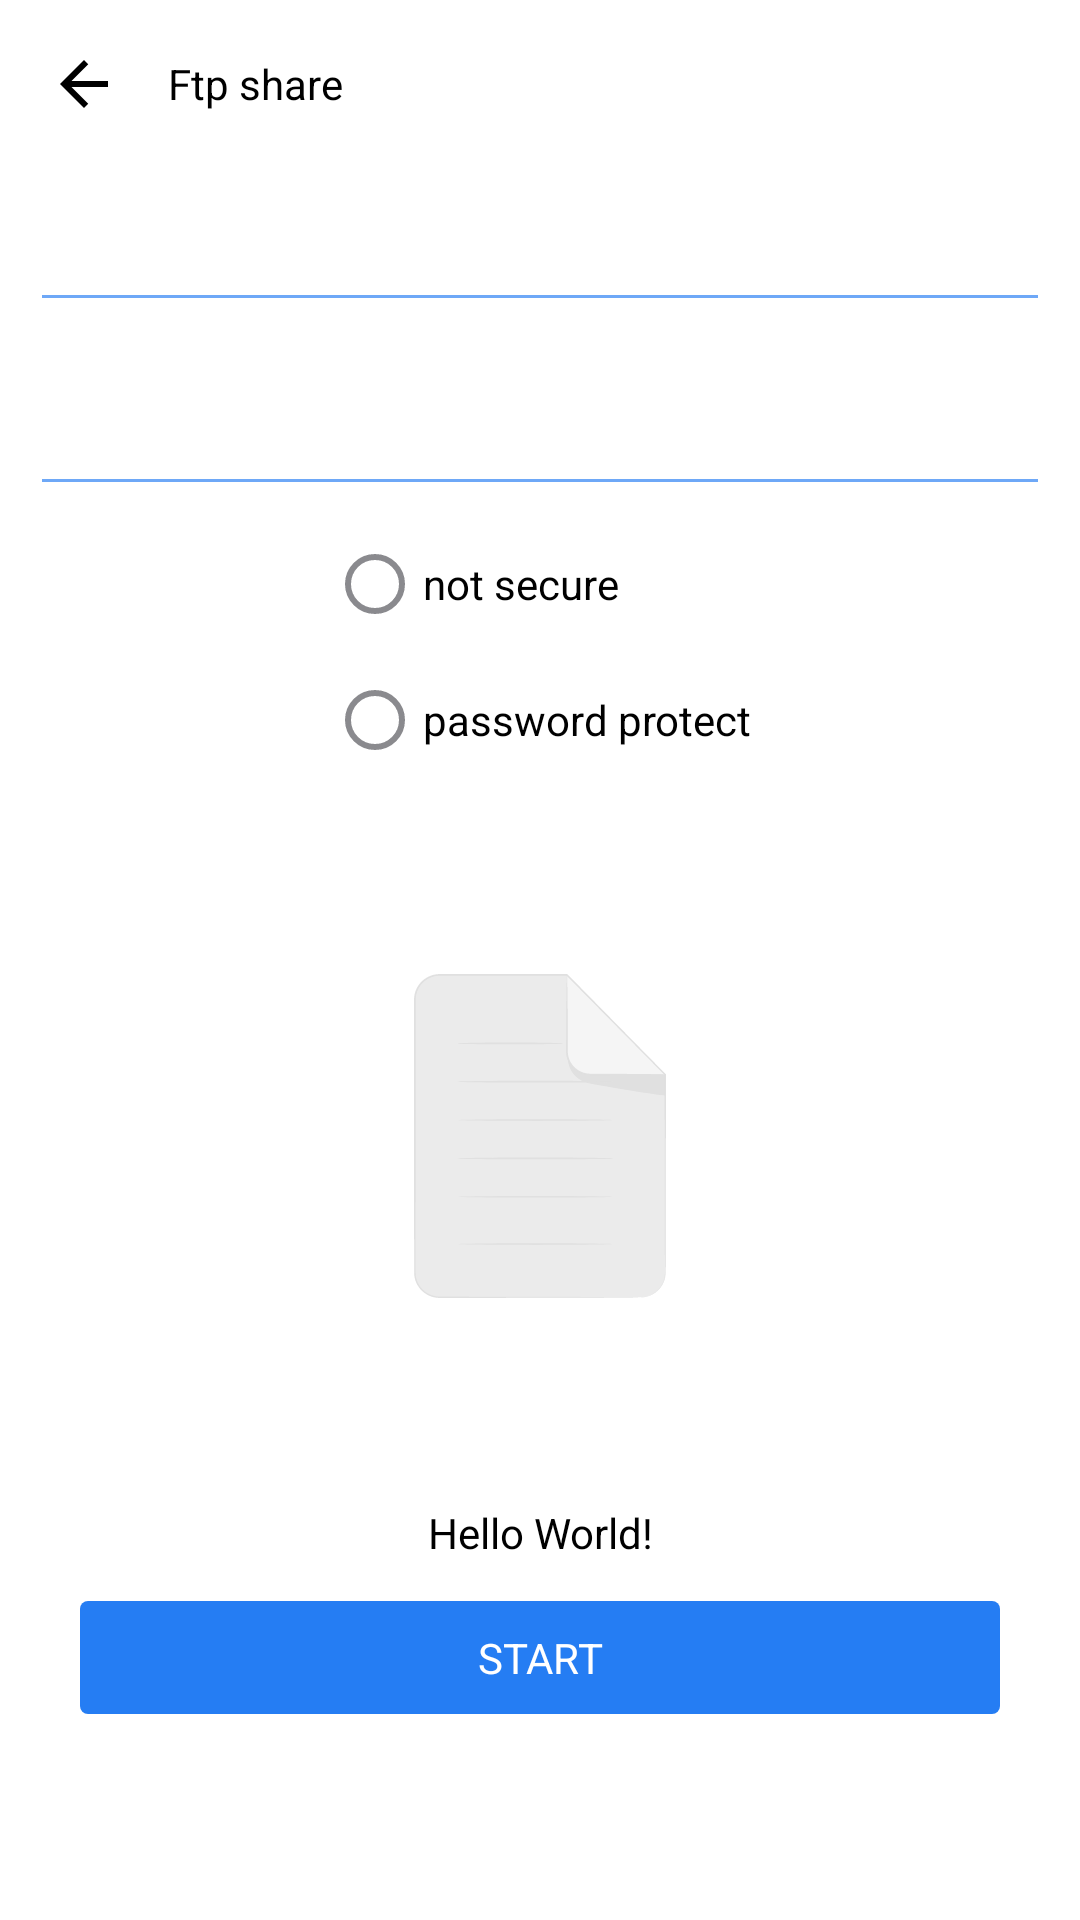

Icons on this 1080px×1920px Android screen, each with its box as bbox(x1, y1, x2, y2):
arrow back: bbox(60, 60, 108, 108)
